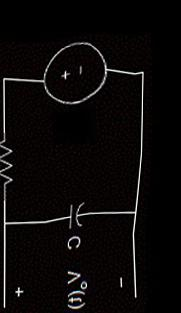Battery: (33, 30, 114, 120)
